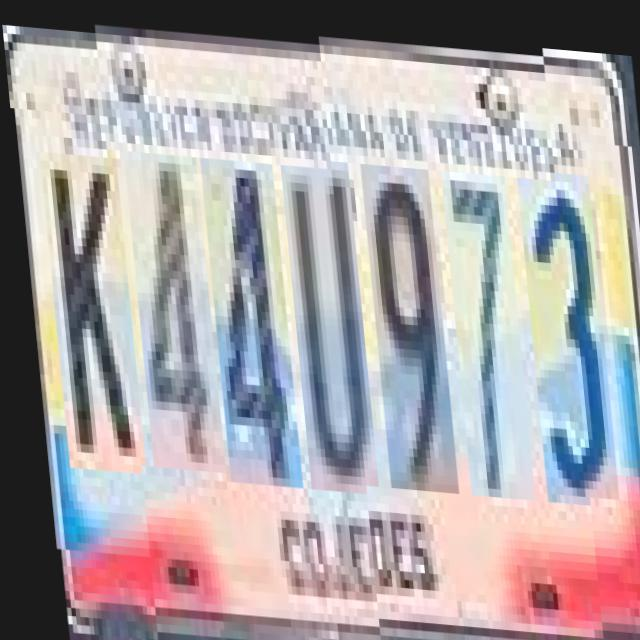3: (514, 168, 612, 498)
4: (196, 146, 294, 475), (120, 140, 216, 462)
7: (438, 163, 526, 491)
9: (358, 157, 450, 486)
K: (36, 135, 136, 456)
U: (277, 152, 370, 480)
